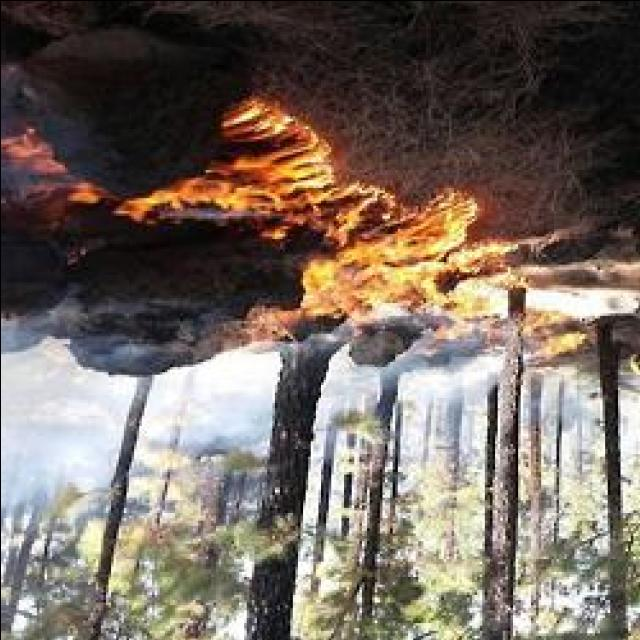fire: (314, 216, 472, 302), (214, 130, 328, 218)
smoke: (0, 371, 115, 481), (0, 66, 78, 206), (149, 365, 269, 450), (404, 362, 492, 405), (323, 364, 381, 410)
